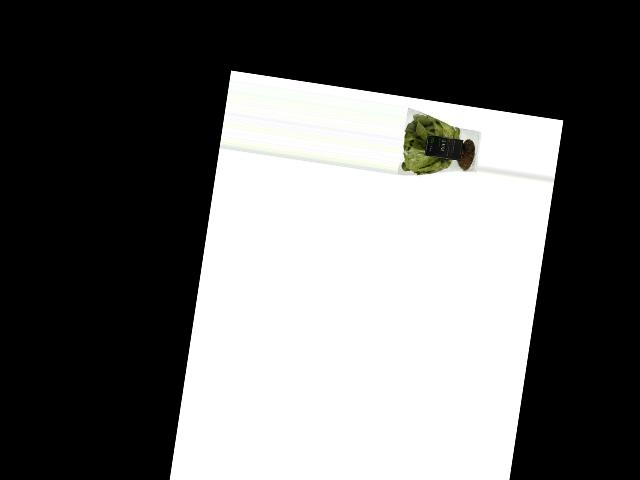lettuce: (398, 109, 484, 185)
